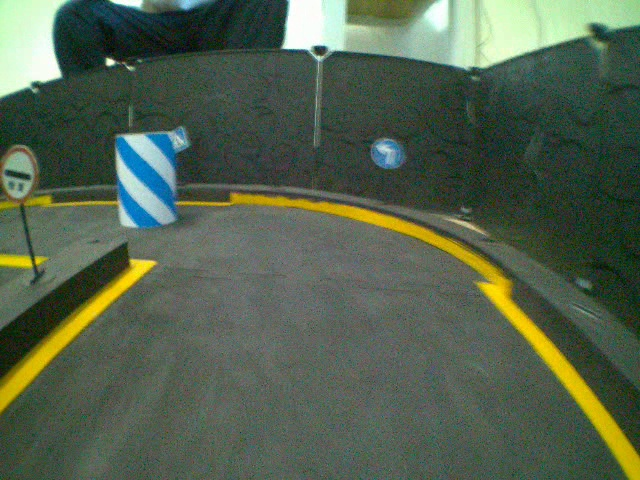bucket: (111, 130, 179, 229)
